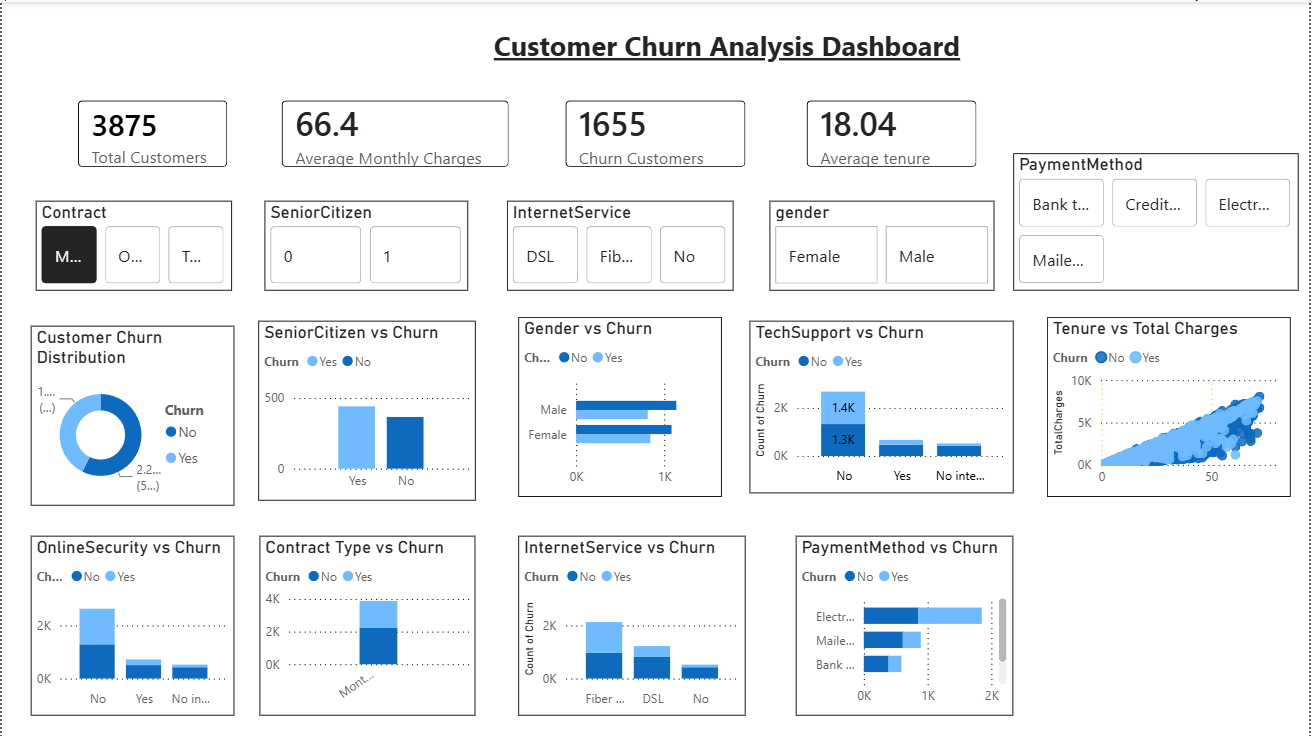

Layout of this report page (visuals, bound fields, positions):
{"tool":"powerbi","page":{"name":"Page 1","canvas":[1280,720],"ordinal":0},"visuals":[{"type":"cardVisual","fields":{"Data":["CountNonNull(Telco-Customer-Churn.customerID)"]},"box":[57.5,79.5,181,99],"z":0},{"type":"cardVisual","fields":{"Data":["Avg(WA_Fn-UseC_-Telco-Customer-Churn.MonthlyCharges)"]},"box":[256.8,79.5,256.8,99],"z":1000},{"type":"cardVisual","fields":{"Data":["Avg(WA_Fn-UseC_-Telco-Customer-Churn.tenure)"]},"box":[770.4,79.5,200.5,99],"z":2000},{"type":"cardVisual","fields":{"Data":["CountNonNull(Telco-Customer-Churn.Churn)"]},"box":[534.4,79.5,210.3,99],"z":3000},{"type":"donutChart","title":"Customer Churn Distribution","fields":{"Category":["Telco-Customer-Churn.Churn"],"Y":["CountNonNull(Telco-Customer-Churn.Churn)"]},"box":[28.1,316.7,199.3,176.1],"z":4000},{"type":"columnChart","title":"Contract Type vs Churn","fields":{"Category":["Telco-Customer-Churn.Contract"],"Series":["Telco-Customer-Churn.Churn"],"Y":["CountNonNull(Telco-Customer-Churn.customerID)"]},"box":[251.9,522.1,211.6,176.1],"z":5000},{"type":"columnChart","title":"InternetService vs Churn","fields":{"Category":["Telco-Customer-Churn.InternetService"],"Series":["Telco-Customer-Churn.Churn"],"Y":["CountNonNull(Telco-Customer-Churn.Churn)"]},"box":[505,522.1,222.6,176.1],"z":6000},{"type":"barChart","title":"PaymentMethod vs Churn","fields":{"Category":["Telco-Customer-Churn.PaymentMethod"],"Series":["Telco-Customer-Churn.Churn"],"Y":["CountNonNull(Telco-Customer-Churn.Churn)"]},"box":[776.5,522.1,212.8,176.1],"z":7000},{"type":"scatterChart","title":"Tenure vs Total Charges","fields":{"X":["Telco-Customer-Churn.tenure"],"Y":["Telco-Customer-Churn.TotalCharges"],"Series":["Telco-Customer-Churn.Churn"]},"box":[1022.3,308.2,238.5,176.1],"z":8000},{"type":"columnChart","title":"TechSupport vs Churn","fields":{"Category":["Telco-Customer-Churn.TechSupport"],"Series":["Telco-Customer-Churn.Churn"],"Y":["CountNonNull(Telco-Customer-Churn.Churn)"]},"box":[731.3,311.8,258,168.8],"z":9000},{"type":"columnChart","title":"OnlineSecurity vs Churn","fields":{"Category":["Telco-Customer-Churn.OnlineSecurity"],"Series":["Telco-Customer-Churn.Churn"],"Y":["CountNonNull(Telco-Customer-Churn.Churn)"]},"box":[28.1,522.1,199.3,176.1],"z":10000},{"type":"columnChart","title":"SeniorCitizen vs Churn ","fields":{"Category":["Telco-Customer-Churn.Churn"],"Series":["Telco-Customer-Churn.Churn"],"Y":["Sum(Telco-Customer-Churn.SeniorCitizen)"]},"box":[250.7,311.8,212.8,176.1],"z":11000},{"type":"clusteredBarChart","title":"Gender vs Churn","fields":{"Category":["Telco-Customer-Churn.gender"],"Series":["Telco-Customer-Churn.Churn"],"Y":["CountNonNull(Telco-Customer-Churn.Churn)"]},"box":[505,308.2,199.3,176.1],"z":12000},{"type":"advancedSlicerVisual","fields":{"Values":["Telco-Customer-Churn.gender"]},"box":[750.8,194.4,220.1,88],"z":13000},{"type":"advancedSlicerVisual","fields":{"Values":["Telco-Customer-Churn.Contract"]},"box":[33,194.4,192,88],"z":14000},{"type":"advancedSlicerVisual","fields":{"Values":["Telco-Customer-Churn.SeniorCitizen"]},"box":[256.8,194.4,199.3,88],"z":15000},{"type":"advancedSlicerVisual","fields":{"Values":["Telco-Customer-Churn.InternetService"]},"box":[494,194.4,221.3,88],"z":16000},{"type":"advancedSlicerVisual","fields":{"Values":["Telco-Customer-Churn.PaymentMethod"]},"box":[989.3,148,278.8,134.5],"z":17000},{"type":"textbox","box":[336.3,19.6,745.9,72.1],"z":18000}]}

Visuals, with their boxes in screenshot pixels (x1, y1, x2, y2), scaled from the page's 1280x720 canvas onto the 1312x736 screenshot:
cardVisual - CountNonNull(Telco-Customer-Churn.customerID): 59/81/244/182
cardVisual - Avg(WA_Fn-UseC_-Telco-Customer-Churn.MonthlyCharges): 263/81/526/182
cardVisual - Avg(WA_Fn-UseC_-Telco-Customer-Churn.tenure): 790/81/995/182
cardVisual - CountNonNull(Telco-Customer-Churn.Churn): 548/81/763/182
"Customer Churn Distribution" donutChart: 29/324/233/504
"Contract Type vs Churn" columnChart: 258/534/475/714
"InternetService vs Churn" columnChart: 518/534/746/714
"PaymentMethod vs Churn" barChart: 796/534/1014/714
"Tenure vs Total Charges" scatterChart: 1048/315/1292/495
"TechSupport vs Churn" columnChart: 750/319/1014/491
"OnlineSecurity vs Churn" columnChart: 29/534/233/714
"SeniorCitizen vs Churn " columnChart: 257/319/475/499
"Gender vs Churn" clusteredBarChart: 518/315/722/495
advancedSlicerVisual - Telco-Customer-Churn.gender: 770/199/995/289
advancedSlicerVisual - Telco-Customer-Churn.Contract: 34/199/231/289
advancedSlicerVisual - Telco-Customer-Churn.SeniorCitizen: 263/199/468/289
advancedSlicerVisual - Telco-Customer-Churn.InternetService: 506/199/733/289
advancedSlicerVisual - Telco-Customer-Churn.PaymentMethod: 1014/151/1300/289
textbox: 345/20/1109/94
